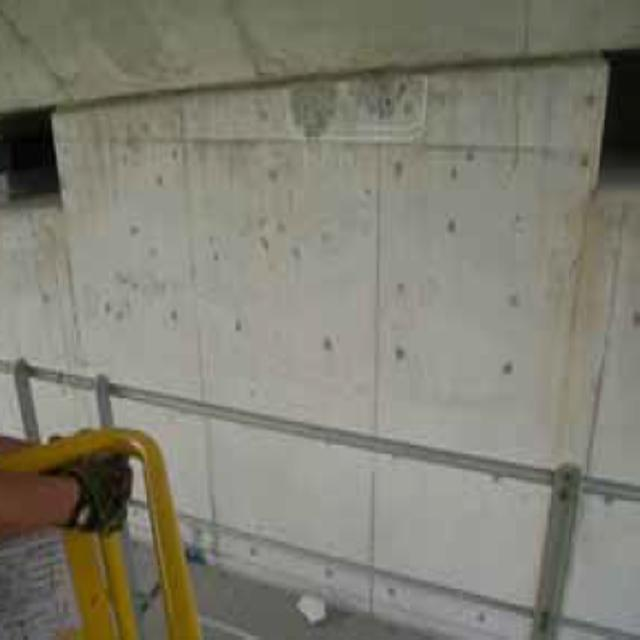spalling: (287, 74, 439, 143)
